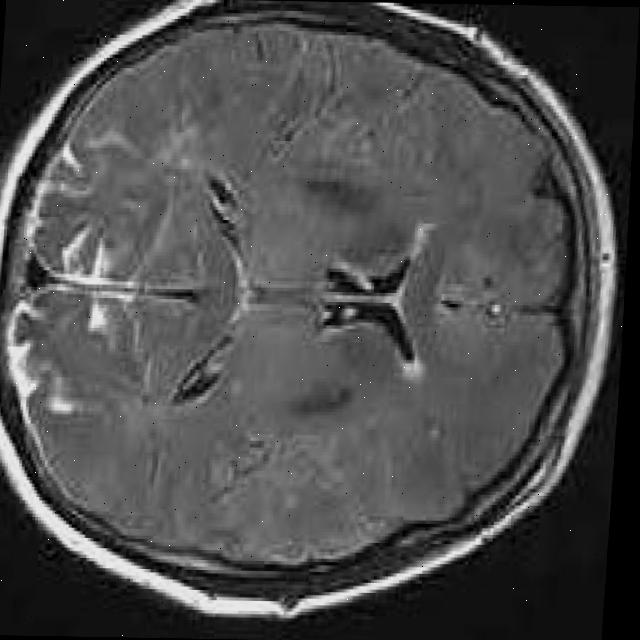NoTumor: (0, 5, 591, 591)
